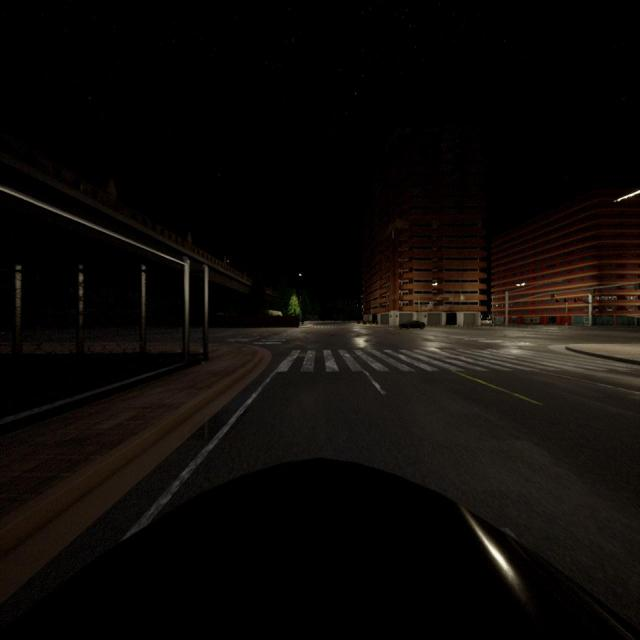Vehicle: (0, 456, 640, 640), (399, 320, 426, 330)
traffic_light: (574, 298, 577, 302), (564, 298, 567, 302), (556, 298, 559, 302)
